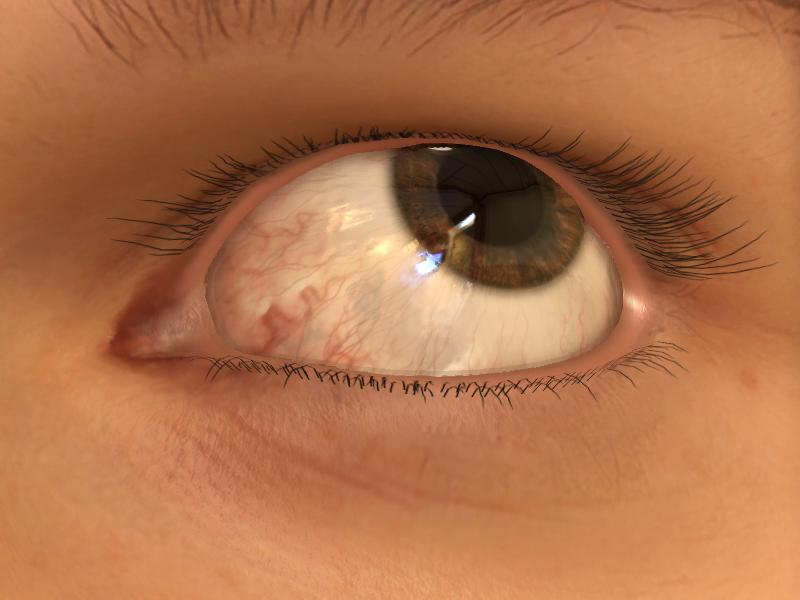eye: (393, 143, 584, 289)
